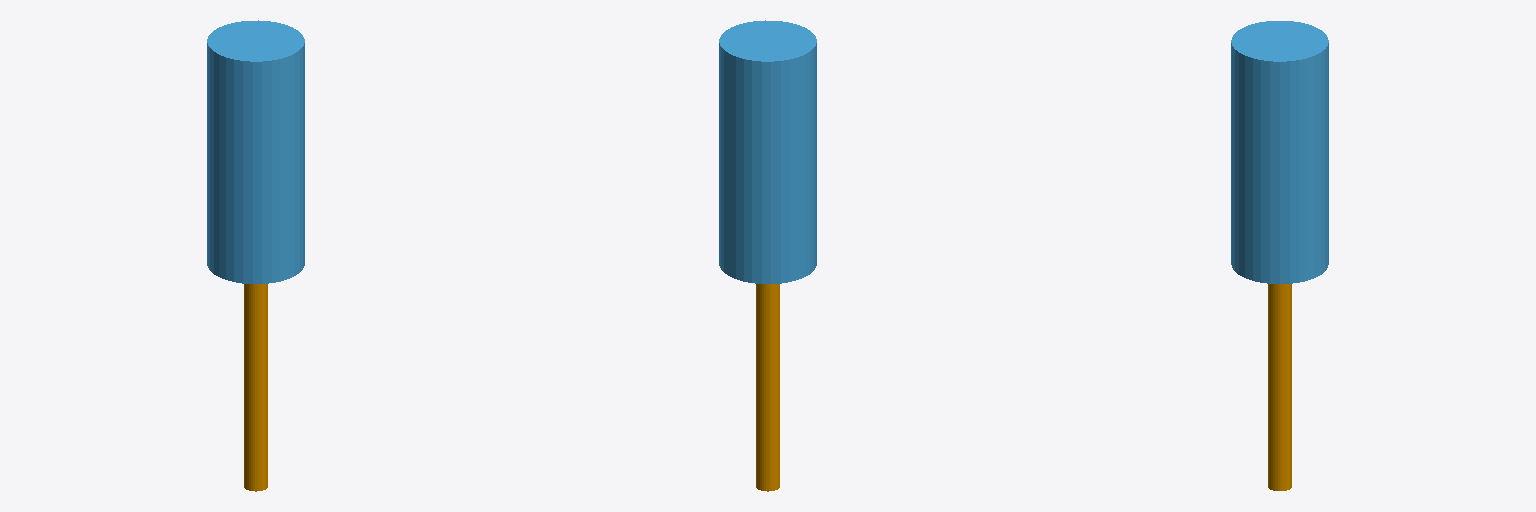
URDF robot description (screwdriver_on_the_table):
<?xml version="1.0" ?>
<!-- this is the one without any virtual joints and links -->
<robot name="screwdriver_on_the_table">
<link name="screwdriver_stick">
    <inertial>
      <mass value="0.05"/>
      <!-- <friction value="1.0"/> -->
      <inertia ixx="0.000041979" ixy="0.0" ixz="0.0" iyy="0.000041979" iyz="0.0" izz="0.000000625"/>
    </inertial>
    <visual>
        <origin rpy="0 0 0" xyz="0 0 0.05"/>
        <geometry>
            <cylinder radius="0.005" length="0.1"/>
        </geometry>
        <!-- <material name="White">
	 	    <color rgba="0.9 0.9 0.9 0.5"/>
        </material> -->
    </visual>
    <collision>
        <origin rpy="0 0 0" xyz="0 0 0.05"/>
        <geometry>
            <cylinder radius="0.005" length="0.1"/>
        </geometry>
    </collision>
</link>

<gazebo reference="screwdriver_body">
    <mu1>0.939247</mu1>
    <mu2>0.450913</mu2>
    <!-- Isaac Sim maps mu1/mu2 to PhysX static/dynamic friction during URDF→USD import -->
</gazebo>

<joint name="screwdriver_stick_body_joint" type="fixed">
    <parent link="screwdriver_stick"/>
    <child link="screwdriver_body"/>
    <origin rpy="0 0 0" xyz="0 0 0.1"/> 
    <axis xyz="0 0 1"/>
</joint>

<link name="screwdriver_body">
    <inertial>
      <mass value="0.196698"/>
      <inertia ixx="0.000183381" ixy="0.0" ixz="0.0" iyy="0.000183381" iyz="0.0" izz="0.000038932"/>
    </inertial>
    <visual>
        <origin rpy="0 0 0" xyz="0 0 0.05"/>
        <geometry>
            <cylinder radius="0.019896" length="0.1"/>
        </geometry>
        <!-- <material name="Red1">
	 	    <color rgba="0.9 0. 0. 0.5"/>
        </material> -->
    </visual>
    <collision>
        <origin rpy="0 0 0" xyz="0 0 0.05"/>
        <geometry>
            <cylinder radius="0.019896" length="0.1"/>
        </geometry>
    </collision>
</link>

<!-- <joint name="screwdriver_body_cap_joint" type="revolute">
    <parent link="screwdriver_body"/>
    <child link="screwdriver_cap"/>
    <origin rpy="0 0 0" xyz="0 0 0.1"/> 
    <axis xyz="0 0 1"/>
</joint>

<link name="screwdriver_cap">
    <inertial>
      <mass value="0.005"/>
      <inertia ixx="0.00001" ixy="0.0" ixz="0.0" iyy="0.000005" iyz="0.0" izz="0.000005"/>
    </inertial>
    <visual>
        <origin rpy="0 0 0" xyz="0 0 0.0006"/>
        <geometry>
            <cylinder radius="0.02" length="0.001"/>
        </geometry>
        <material name="Yellow">
	 	    <color rgba="0.9 0.9 0. 1.0"/>
        </material>
    </visual>
    <collision>
        <origin rpy="0 0 0" xyz="0 0 0.0005"/>
        <geometry>
            <cylinder radius="0.02" length="0.001"/>
        </geometry>
    </collision>
</link> -->

</robot>

--- Facts derived from the render (not from the file) ---
Views: 3 orthographic renders of the robot side by side, from view 1: azimuth 30°, elevation 25°; view 2: azimuth 150°, elevation 25°; view 3: azimuth 270°, elevation 25°.
Model screwdriver_on_the_table with 2 links and 1 joints (1 fixed), rooted at screwdriver_stick, posed all joints at 0.
Visible links, largest first — view 1: screwdriver_body, screwdriver_stick; view 2: screwdriver_body, screwdriver_stick; view 3: screwdriver_body, screwdriver_stick.
Boxes of the visible links, x1,y1,x2,y2 form: screwdriver_body: (207, 20, 304, 283); screwdriver_stick: (244, 284, 267, 491); screwdriver_body: (719, 20, 816, 283); screwdriver_stick: (756, 284, 779, 491); screwdriver_body: (1231, 21, 1328, 283); screwdriver_stick: (1268, 284, 1291, 490).
Size in the robot's own frame: 0.0398 by 0.0398 by 0.2 metres.
Geometry: primitives only (box / cylinder / sphere), no mesh files.
